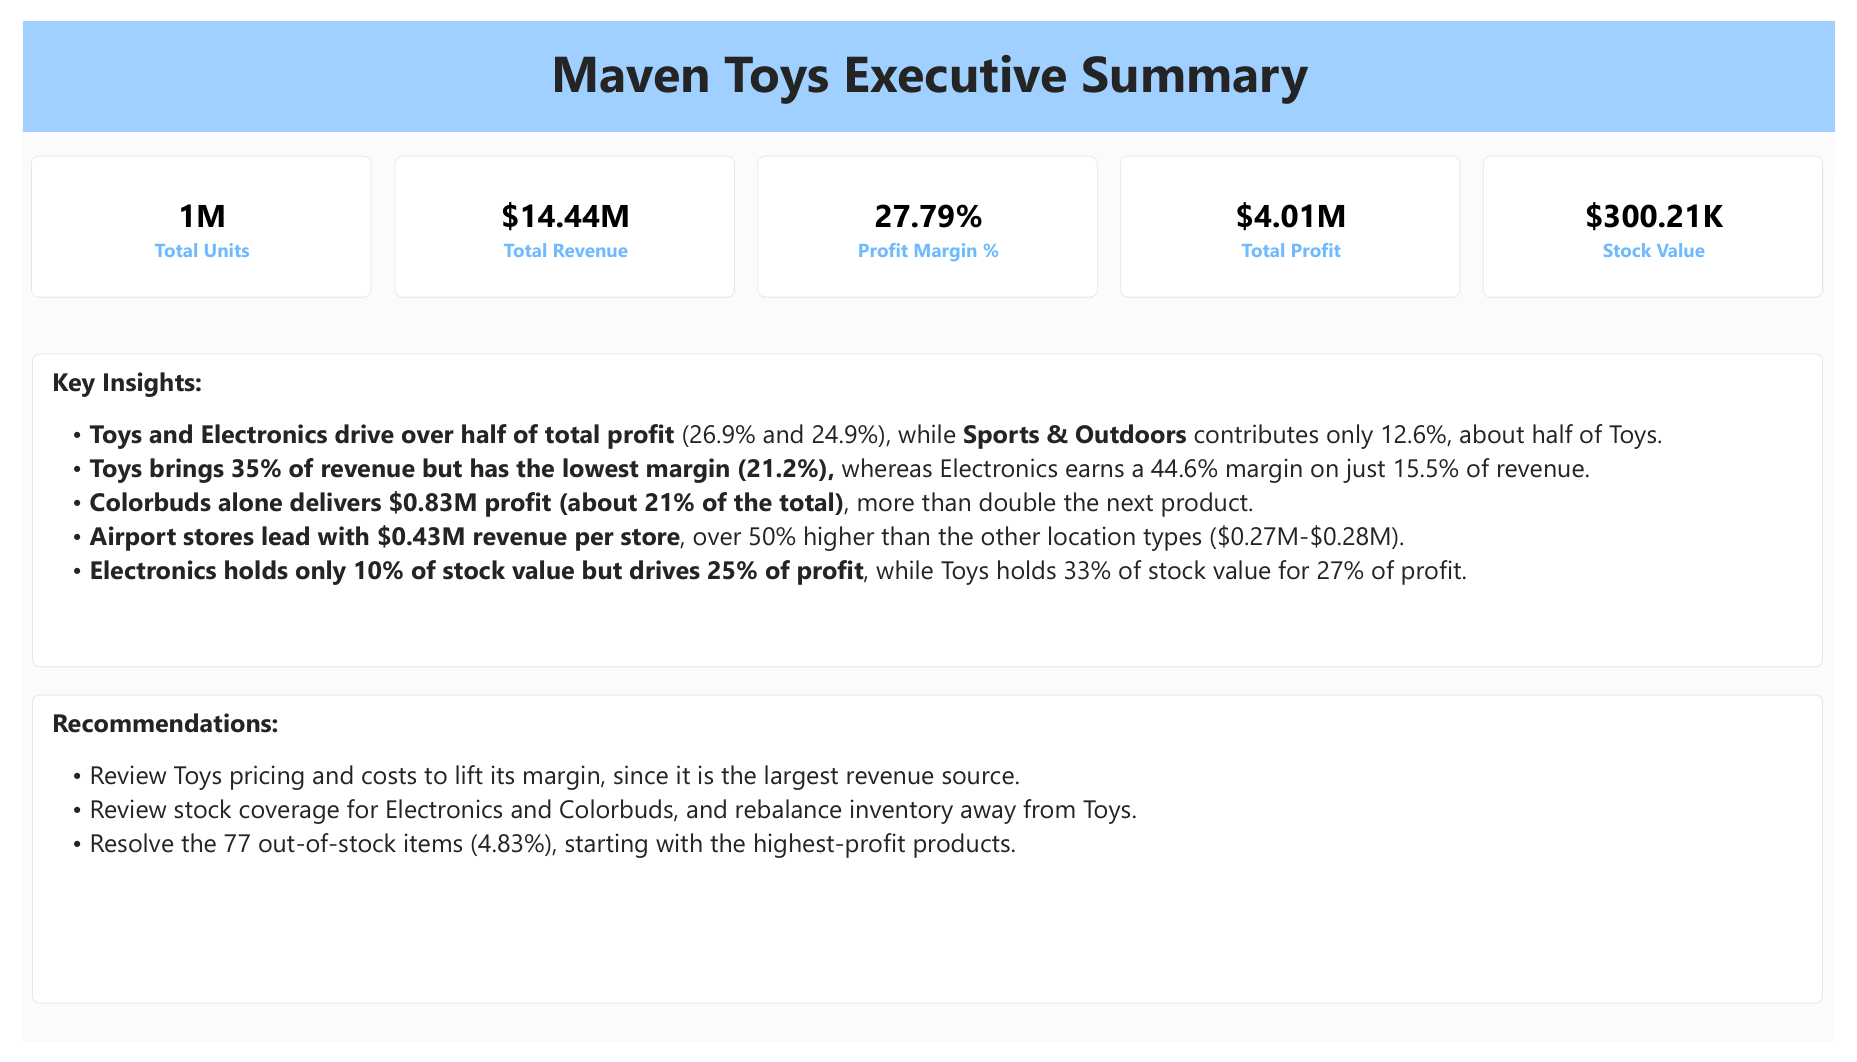

Layout of this report page (visuals, bound fields, positions):
{"tool":"powerbi","page":{"name":"Summary","canvas":[1920,1080],"ordinal":4},"visuals":[{"type":"cardVisual","fields":{"Data":["_Measures.Total Units"]},"box":[10.4,142.4,360,150],"z":0},{"type":"cardVisual","fields":{"Data":["_Measures.Total Revenue"]},"box":[394.6,142.4,360,150],"z":1},{"type":"cardVisual","fields":{"Data":["_Measures.Profit Margin %"]},"box":[778.7,142.4,360,150],"z":2},{"type":"cardVisual","fields":{"Data":["_Measures.Total Profit"]},"box":[1162.9,142.4,360,150],"z":3},{"type":"cardVisual","fields":{"Data":["_Measures.Stock Value"]},"box":[1547.1,142.4,360,150],"z":4},{"type":"textbox","box":[2.2,0,1917.4,116.9],"z":6},{"type":"textbox","box":[10.8,350.6,1896.6,332.6],"z":7},{"type":"textbox","box":[10.8,711.9,1896.6,327.2],"z":8}]}

Visuals, with their boxes in screenshot pixels (x1, y1, x2, y2), scaled from the page's 1920x1080 canvas onto the 1857x1062 screenshot:
cardVisual - _Measures.Total Units: BBox(10, 140, 358, 288)
cardVisual - _Measures.Total Revenue: BBox(382, 140, 730, 288)
cardVisual - _Measures.Profit Margin %: BBox(753, 140, 1101, 288)
cardVisual - _Measures.Total Profit: BBox(1125, 140, 1473, 288)
cardVisual - _Measures.Stock Value: BBox(1496, 140, 1845, 288)
textbox: BBox(2, 0, 1856, 115)
textbox: BBox(10, 345, 1845, 672)
textbox: BBox(10, 700, 1845, 1022)
